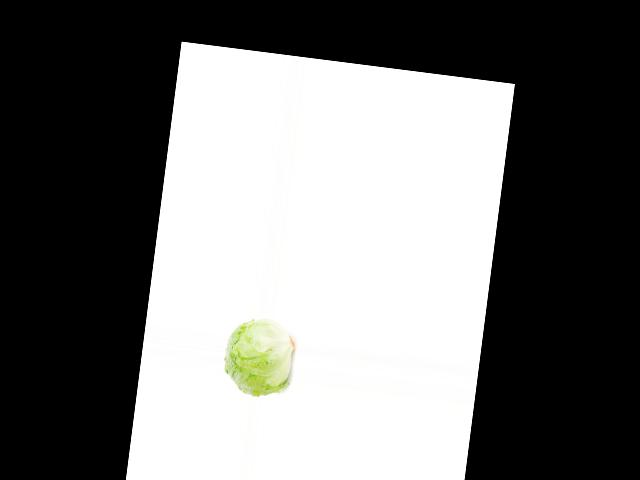lettuce: (220, 318, 295, 399)
